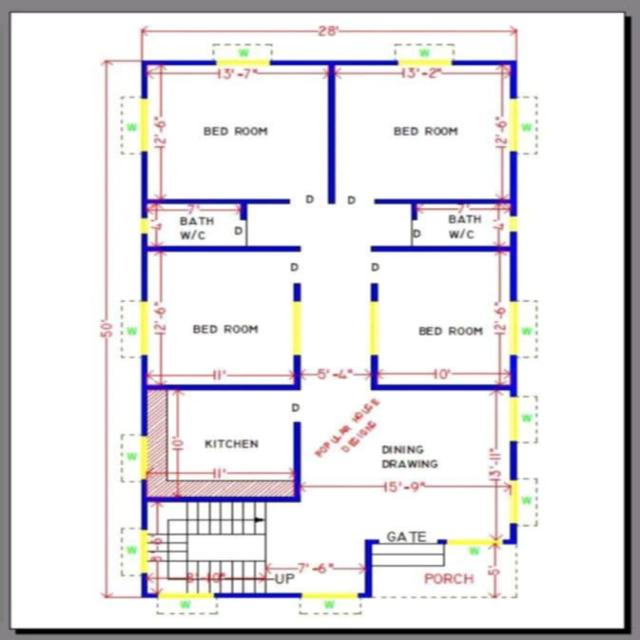column: (281, 378, 308, 397), (134, 194, 158, 212), (500, 381, 528, 396), (501, 193, 525, 210), (134, 586, 158, 603), (320, 55, 342, 73), (364, 378, 386, 396), (135, 54, 156, 72), (135, 382, 159, 397), (135, 493, 154, 510), (288, 491, 307, 508), (504, 55, 522, 72), (358, 587, 378, 602), (324, 195, 342, 209)
